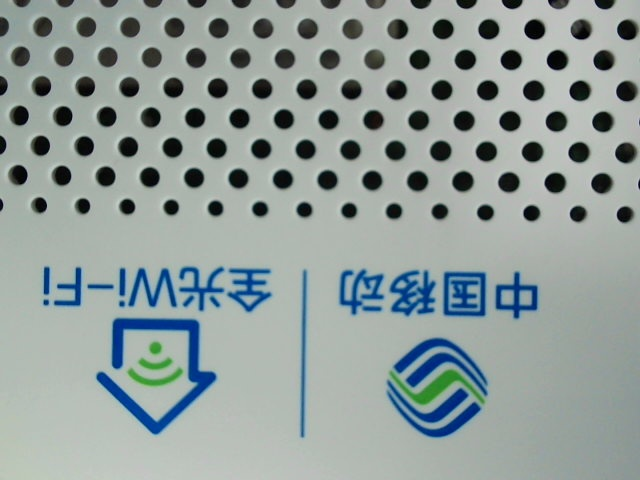BJ_QuanGuangMobile: (30, 246, 554, 439)
